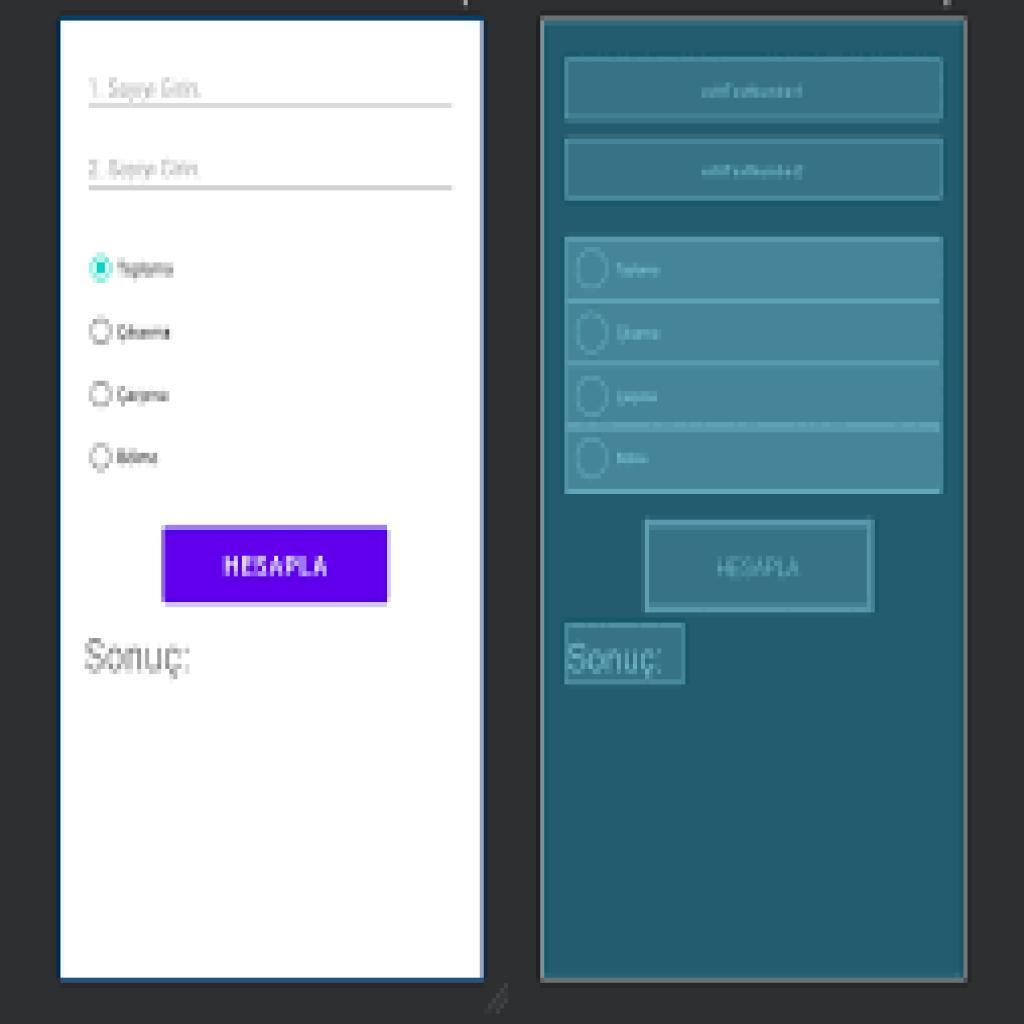button: (565, 429, 945, 494), (564, 363, 943, 427), (566, 239, 945, 301), (565, 301, 945, 361), (644, 523, 874, 613), (161, 529, 393, 607)
input: (564, 54, 946, 122), (567, 137, 946, 198)
radio: (89, 249, 115, 289), (89, 441, 115, 476), (88, 315, 113, 349), (89, 379, 114, 409)
